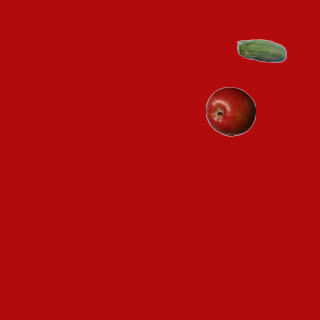Apple Braeburn: (205, 86, 255, 136)
Corn Husk: (236, 27, 286, 77)
